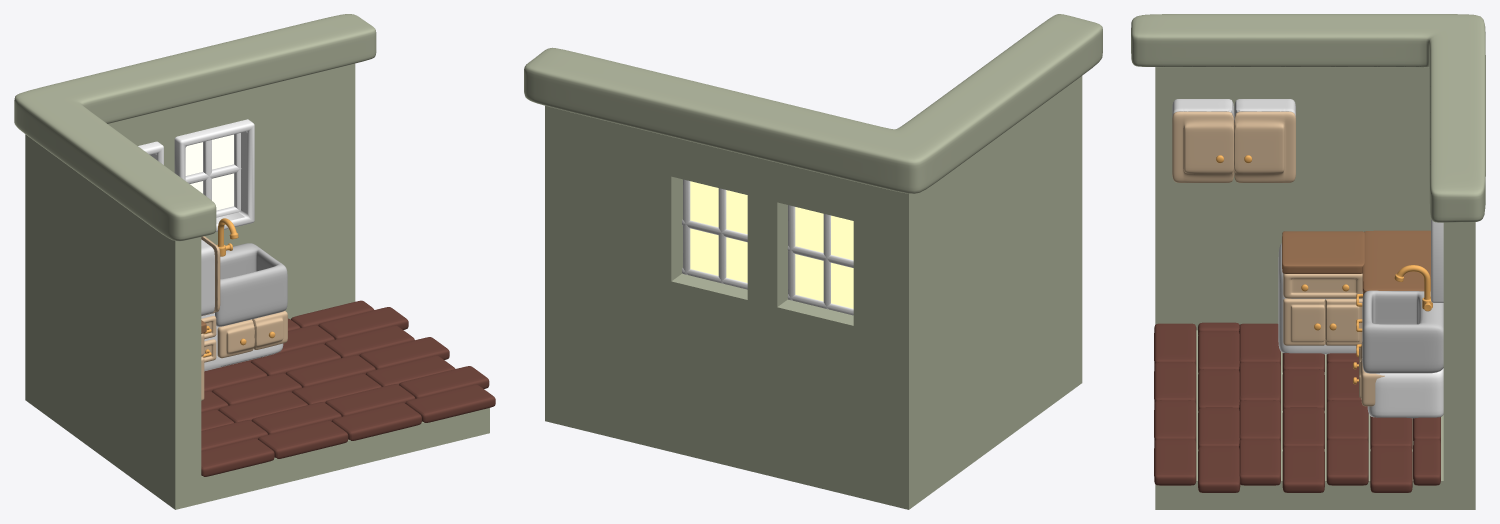
The picture shows the model from 3 angles, left to right: view 1: azimuth 30°, elevation 25°; view 2: azimuth 150°, elevation 25°; view 3: azimuth 270°, elevation 25°; orthographic projection. The views are drawn at different scales.
Parts seen in each view (by area): view 1: base.001, base, Cube.182, Cube.183, Cube.185, Cube.184, SINKCube.060, Cube.186, Cube.069, Cube.187, CABIMAINCube.059, Plane.002 (+3 smaller); view 2: base.001, base, Plane.001, Plane.002, Cube.070, Cube.063, Cube.066, Cube.073; view 3: base.001, base, LEFTSHELVE2, Cube.183, Cube.182, Cube.184, SINKCube.060, Cube.185, Cube.186, CABIMAINCube.007, CABIMAINCube.044, CABIMAINCube.009 (+8 smaller).
Part boxes in pixels (x1=…): base.001: x1=25, y1=63, x2=489, y2=509; base: x1=14, y1=14, x2=376, y2=241; Cube.182: x1=201, y1=384, x2=495, y2=476; Cube.183: x1=201, y1=366, x2=489, y2=450; Cube.185: x1=201, y1=337, x2=449, y2=412; Cube.184: x1=201, y1=355, x2=455, y2=430; SINKCube.060: x1=215, y1=243, x2=287, y2=326; Cube.186: x1=204, y1=325, x2=414, y2=391; Cube.069: x1=174, y1=119, x2=254, y2=231; Cube.187: x1=204, y1=307, x2=408, y2=371; CABIMAINCube.059: x1=217, y1=311, x2=287, y2=358; Plane.002: x1=185, y1=134, x2=233, y2=210; base.001: x1=545, y1=76, x2=1082, y2=509; base: x1=524, y1=14, x2=1102, y2=193; Plane.001: x1=795, y1=207, x2=853, y2=308; Plane.002: x1=690, y1=181, x2=747, y2=282; Cube.070: x1=718, y1=188, x2=726, y2=283; Cube.063: x1=823, y1=214, x2=830, y2=309; Cube.066: x1=788, y1=205, x2=795, y2=300; Cube.073: x1=683, y1=179, x2=690, y2=274; base.001: x1=1155, y1=67, x2=1475, y2=509; base: x1=1131, y1=14, x2=1485, y2=222; LEFTSHELVE2: x1=1172, y1=99, x2=1295, y2=182; Cube.183: x1=1198, y1=322, x2=1240, y2=492; Cube.182: x1=1154, y1=323, x2=1196, y2=485; Cube.184: x1=1239, y1=323, x2=1280, y2=485; SINKCube.060: x1=1362, y1=290, x2=1443, y2=373; Cube.185: x1=1282, y1=353, x2=1324, y2=492; Cube.186: x1=1326, y1=353, x2=1368, y2=485; CABIMAINCube.007: x1=1362, y1=230, x2=1430, y2=295; CABIMAINCube.044: x1=1283, y1=298, x2=1362, y2=345; CABIMAINCube.009: x1=1282, y1=231, x2=1364, y2=273.
Size of what is drawn, in the model's own units: 3.23 by 2.72 by 2.67.
